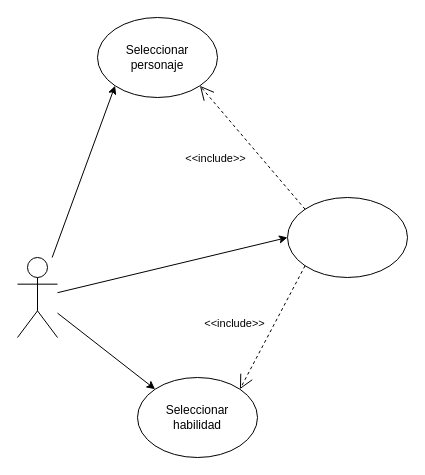
This 425x475 diagram has some shape labels left out. The shapes that lost their labels are listed below. From the top down, each one's centre as x and y in pixels, then its label:
(x=347, y=237): Calcular resultado
(x=37, y=297): Actor
